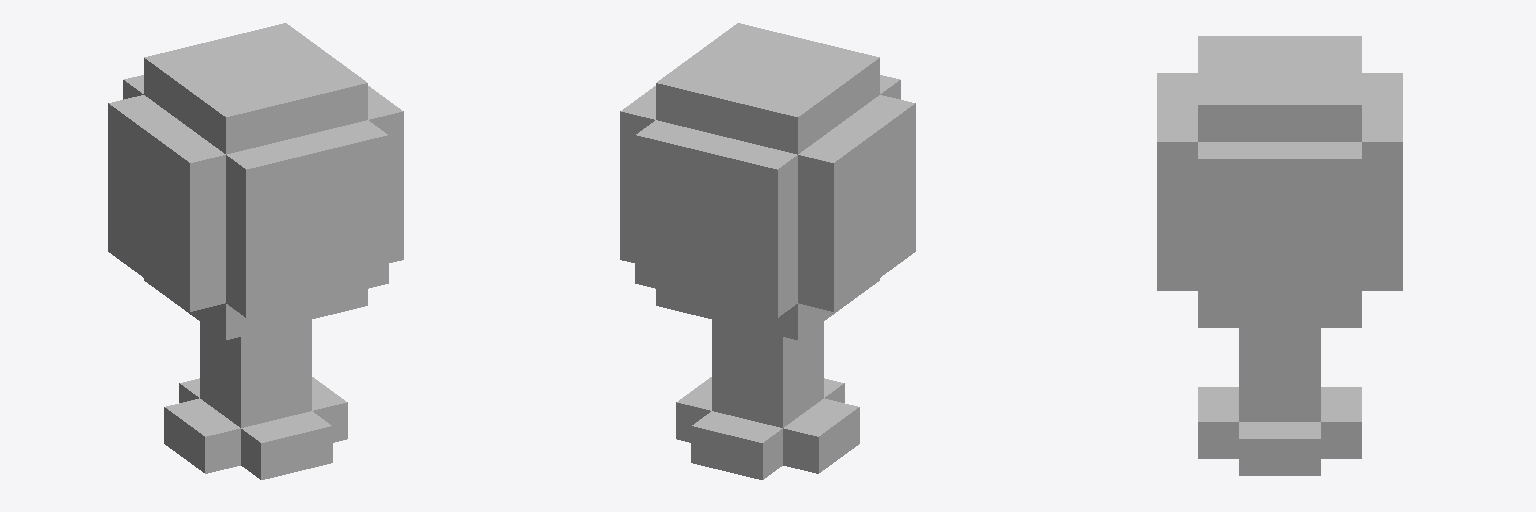
Rendered from Oak Tree Small.obj.
3 renders of one model, left to right at view 1: azimuth 30°, elevation 25°; view 2: azimuth 150°, elevation 25°; view 3: azimuth 270°, elevation 25°, orthographic.
Parts seen in each view (by area): view 1: object 1; view 2: object 1; view 3: object 1.
Boxes of the visible parts, x1=… form: object 1: x1=108, y1=23, x2=403, y2=479; object 1: x1=620, y1=23, x2=915, y2=479; object 1: x1=1157, y1=36, x2=1402, y2=475.
Bounding box in the file's own units: 0.6 × 1 × 0.6.